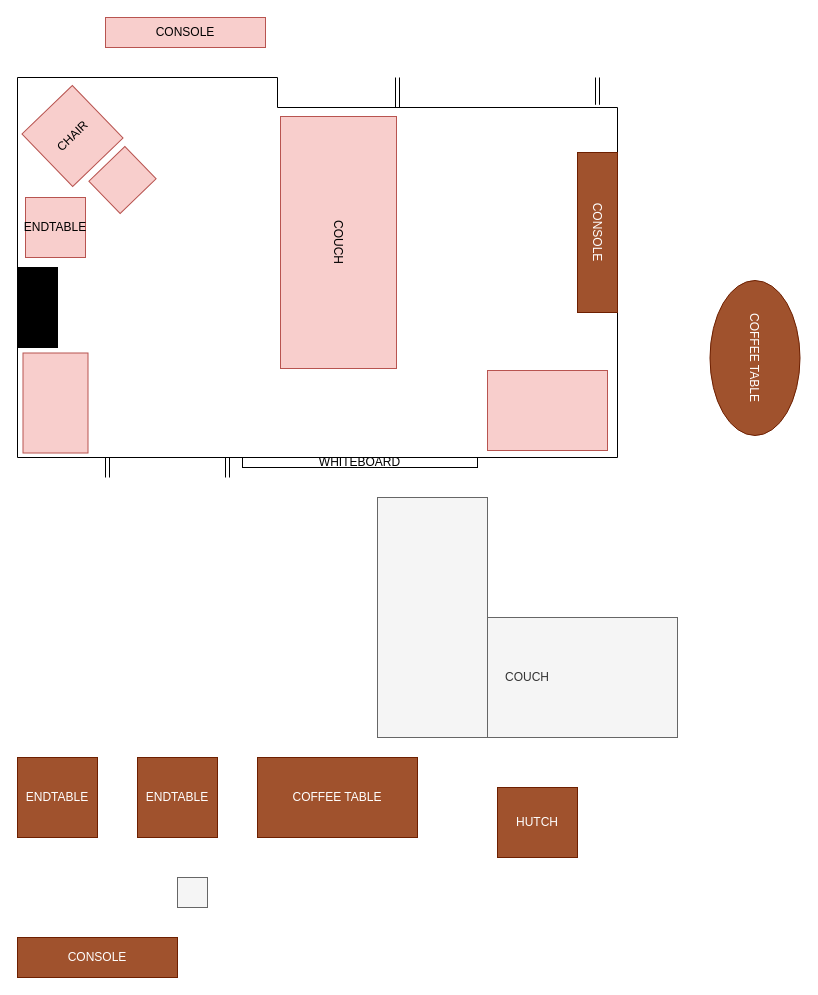
Some shapes in this 818 by 995 pixel diagram are drawn without their labels. The shapes that lost their labels are listed below. From the top down, each one's centre as x and y in pixels, then its label:
[122,179]: FOOTREST
[37,307]: BOOKCASE
[55,402]: DESK
[547,410]: CORNER THING
[192,892]: LAMP
